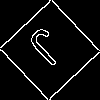J: (24, 24, 76, 76)
